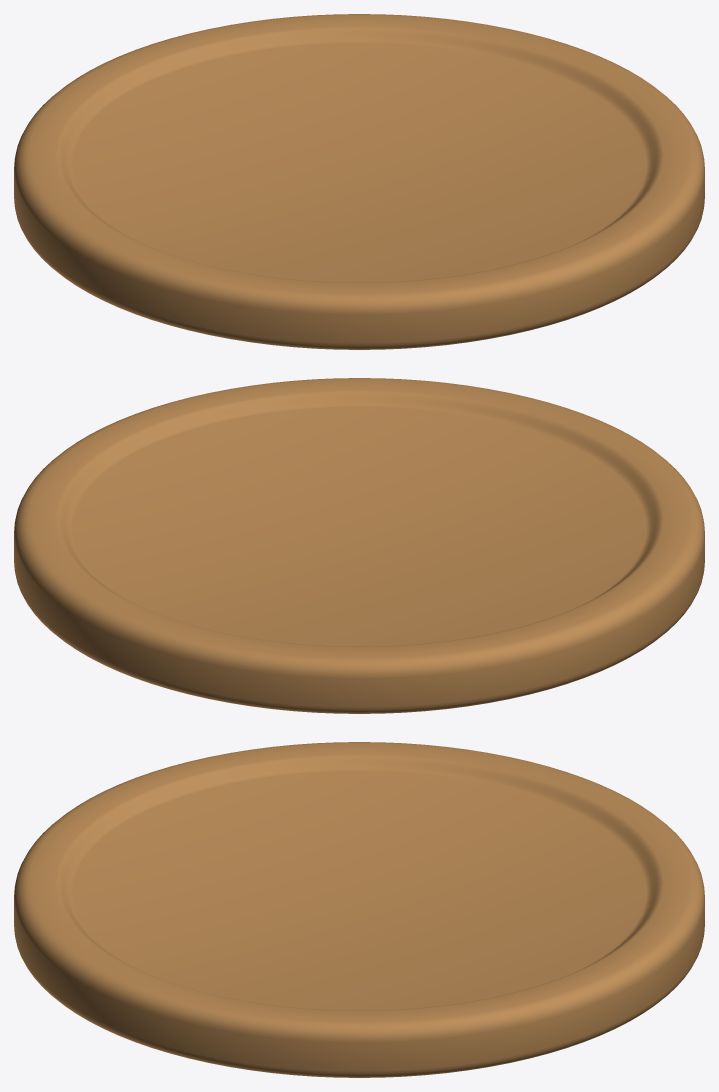
Rendered from oryzo-1.obj.
3 views of the same model, one above another, from view 1: azimuth 30°, elevation 25°; view 2: azimuth 150°, elevation 25°; view 3: azimuth 270°, elevation 25° (orthographic).
Visible parts, largest first — view 1: ORYZO-1; view 2: ORYZO-1; view 3: ORYZO-1.
Boxes of the visible parts, left/top/right/bottom form: ORYZO-1: left=14, top=14, right=704, bottom=349; ORYZO-1: left=14, top=378, right=704, bottom=713; ORYZO-1: left=14, top=742, right=704, bottom=1077.
Size of the model in its own units: 2 by 0.17 by 2.
